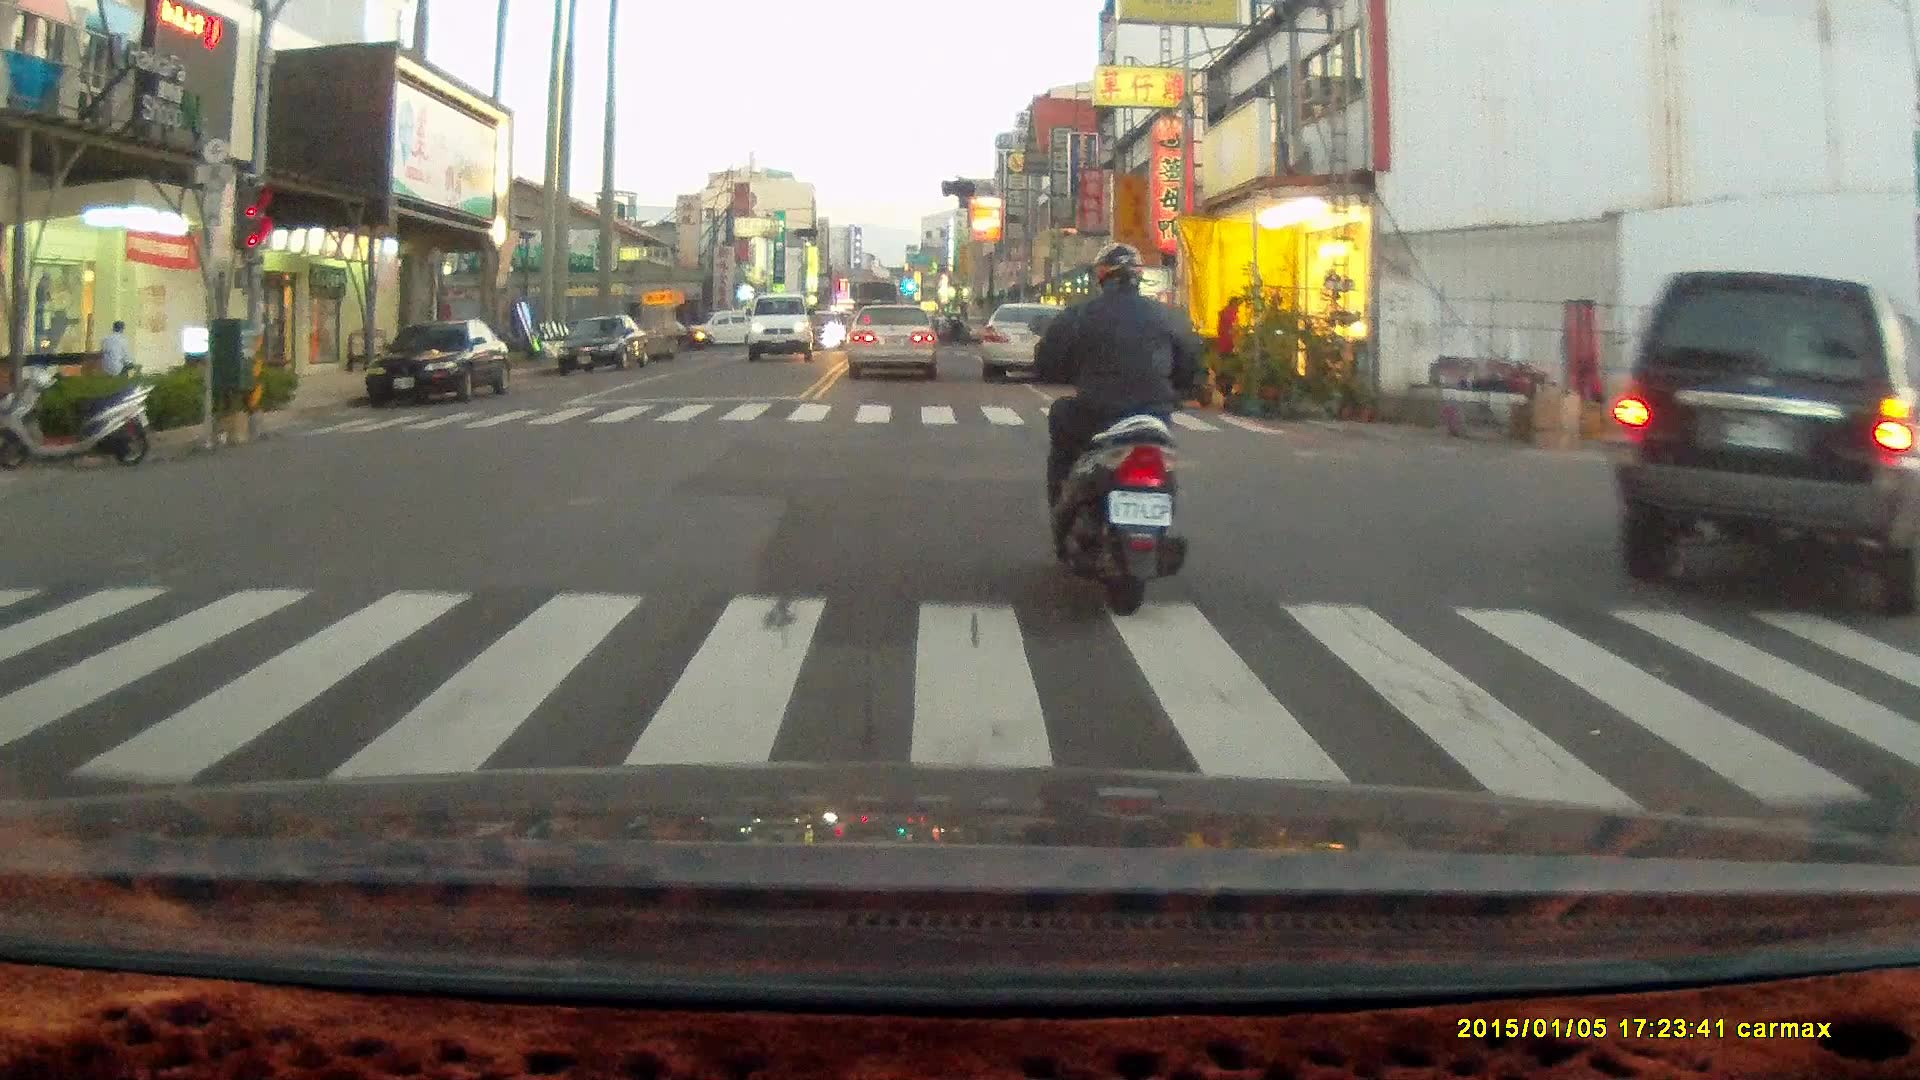pedestrian: (1211, 293, 1248, 406), (96, 317, 132, 388)
rider: (1030, 238, 1199, 614)
vehicle: (1603, 277, 1920, 609), (364, 316, 508, 412), (981, 301, 1090, 387), (847, 306, 939, 381), (558, 314, 650, 378), (748, 295, 816, 363)
